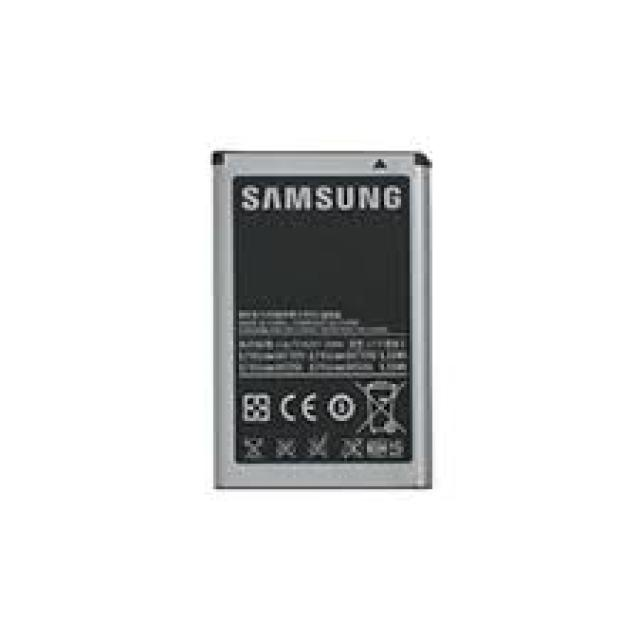non-organic waste: (209, 148, 429, 487)
